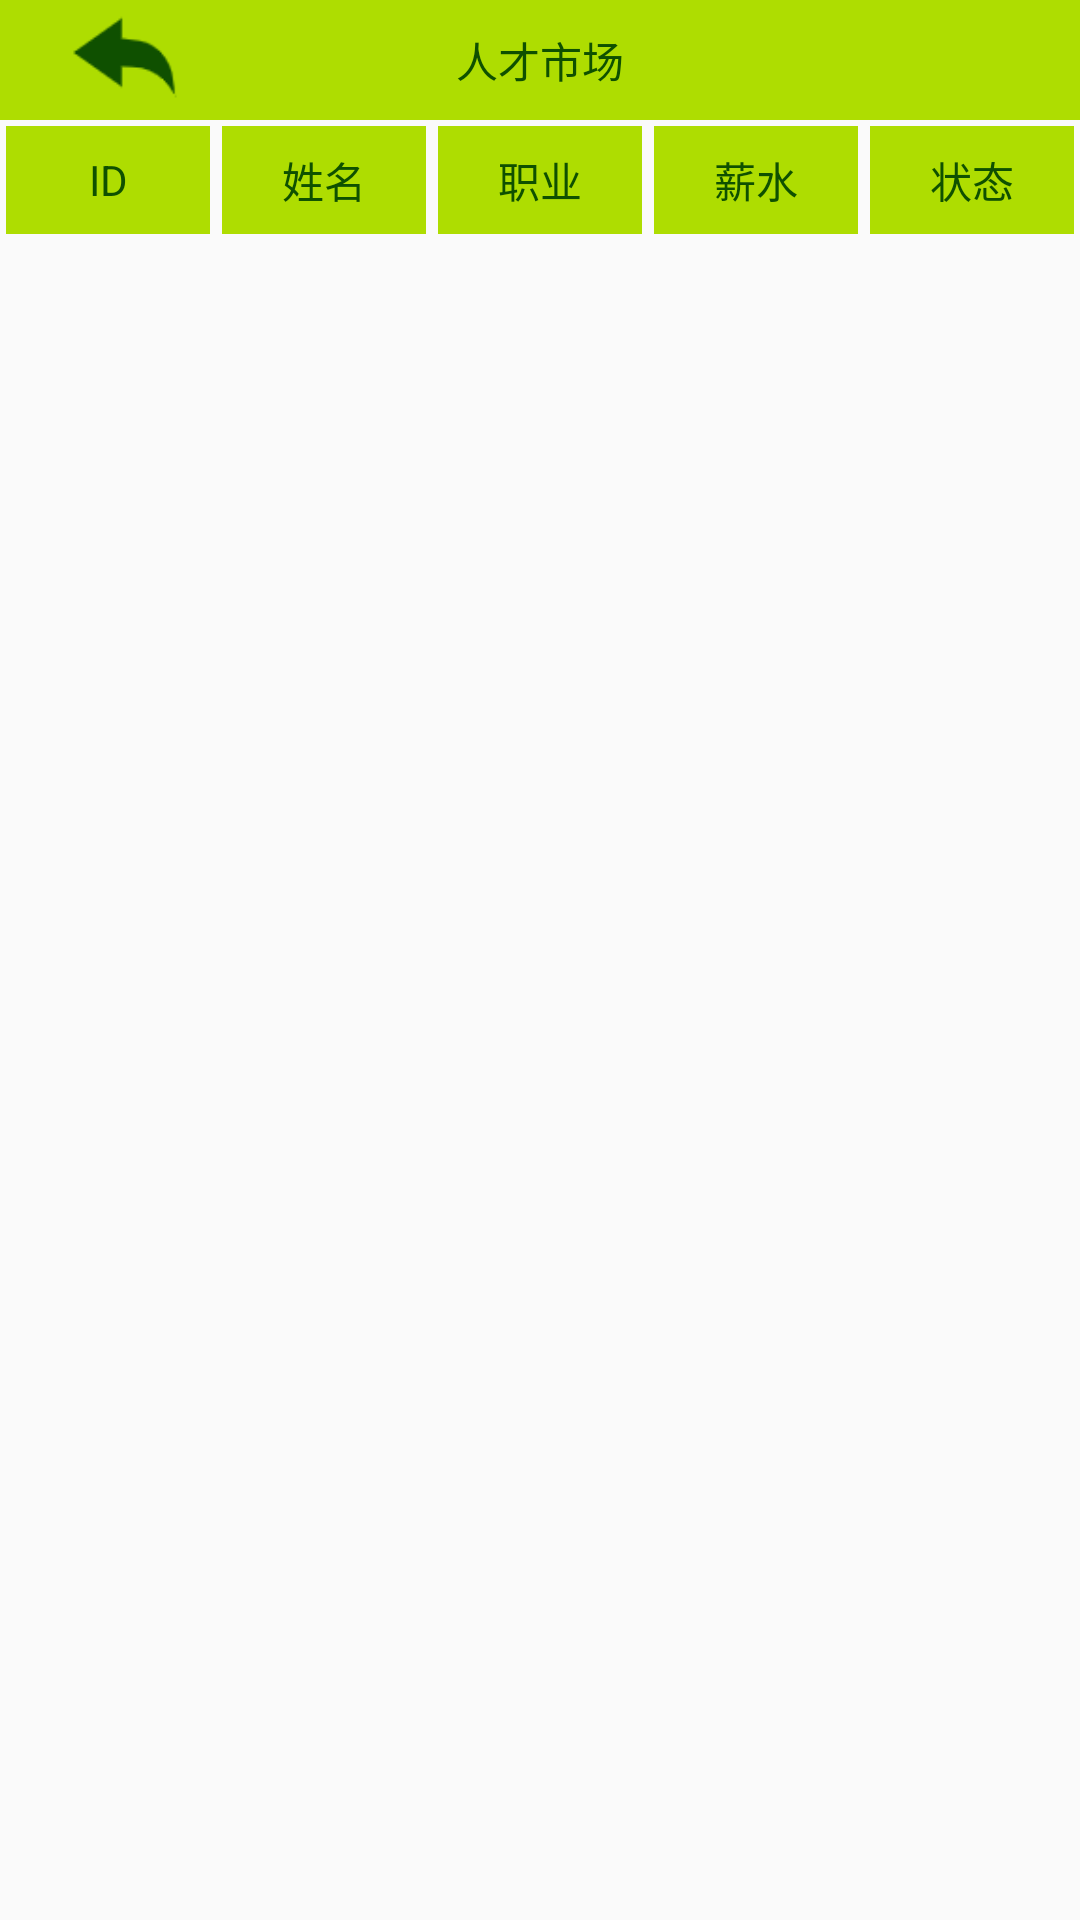

Screen size 1080×1920. Icon name, then its box in pixels as [left=x1, top=y1, right=x2, bottom=y2]:
return: [left=73, top=18, right=175, bottom=94]
